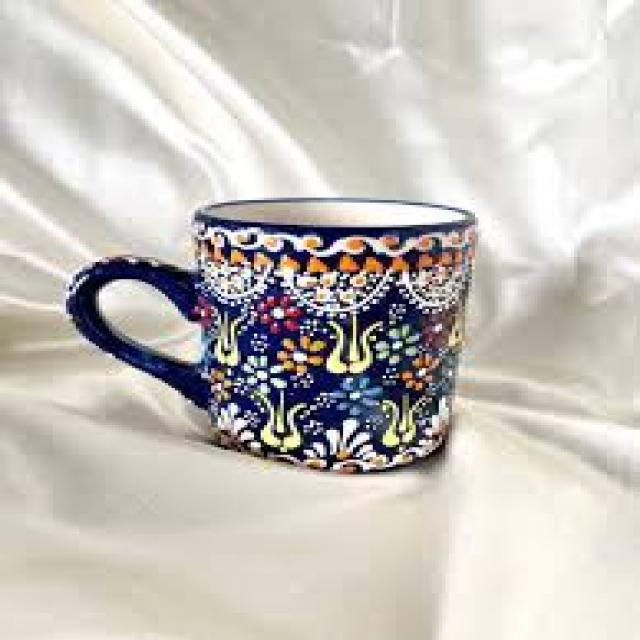taza: (65, 195, 482, 477)
